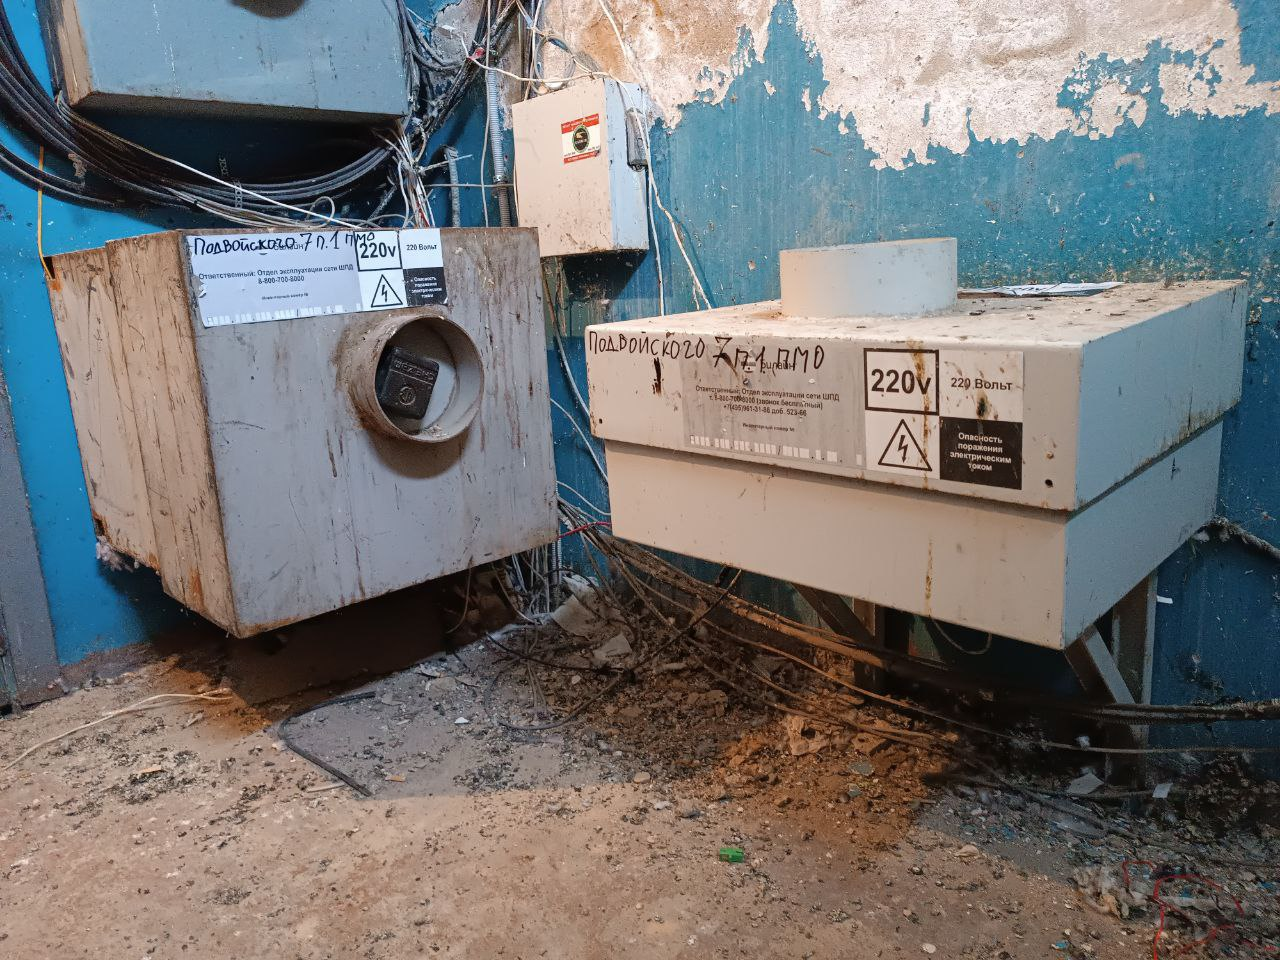shta-9: (38, 221, 568, 643)
shta-ps: (584, 229, 1253, 658)
